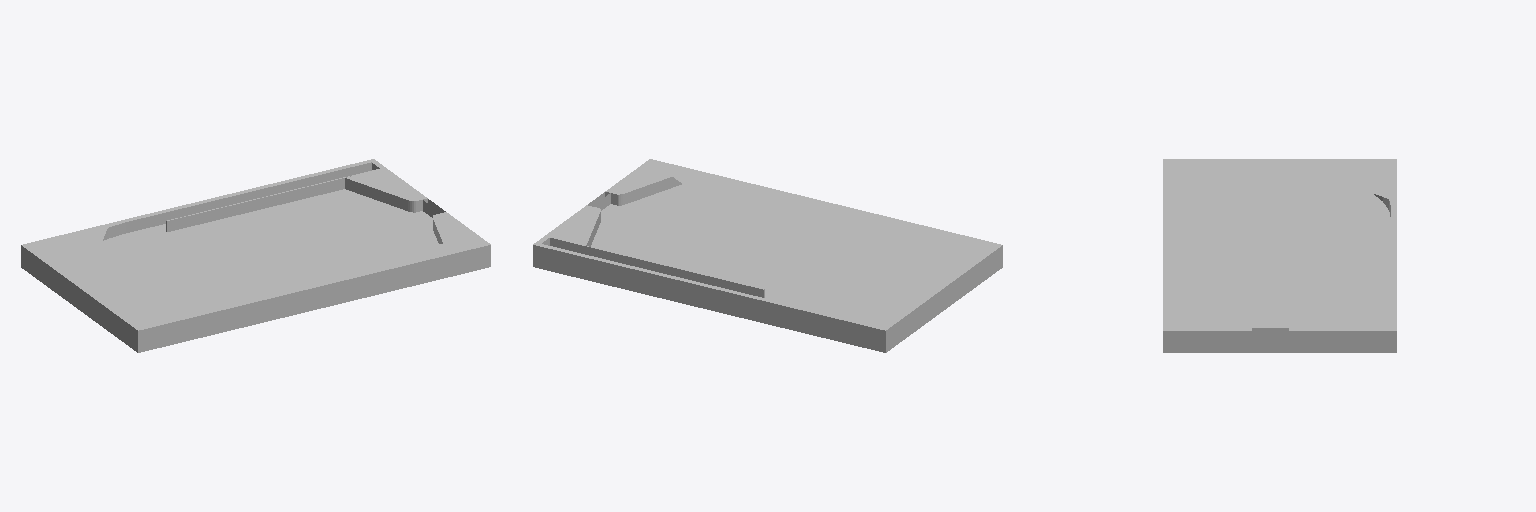
Rendered from board_0.obj.
The picture shows the model from 3 angles: view 1: azimuth 30°, elevation 25°; view 2: azimuth 150°, elevation 25°; view 3: azimuth 270°, elevation 25°; orthographic projection.
Visible parts, largest first — view 1: Cube.005, Plane, Cube.001, Cube.002, Plane.001; view 2: Cube.005, Plane, Cube.001, Cube.002, Plane.001; view 3: Cube.005, Plane, Cube.001, Cube.002.
Part boxes in pixels (bbox=[...]): Cube.005: bbox=[21, 159, 490, 352]; Plane: bbox=[101, 189, 438, 245]; Cube.001: bbox=[31, 222, 229, 326]; Cube.002: bbox=[345, 169, 481, 251]; Plane.001: bbox=[166, 169, 378, 231]; Cube.005: bbox=[533, 159, 1002, 352]; Plane: bbox=[585, 184, 845, 307]; Cube.001: bbox=[790, 223, 991, 326]; Cube.002: bbox=[551, 162, 686, 246]; Plane.001: bbox=[550, 237, 764, 297]; Cube.005: bbox=[1163, 159, 1396, 352]; Plane: bbox=[1189, 188, 1390, 327]; Cube.001: bbox=[1170, 161, 1390, 216]; Cube.002: bbox=[1169, 311, 1372, 327].
Bounding box in the file's own units: 6.6 × 0.4 × 3.8.